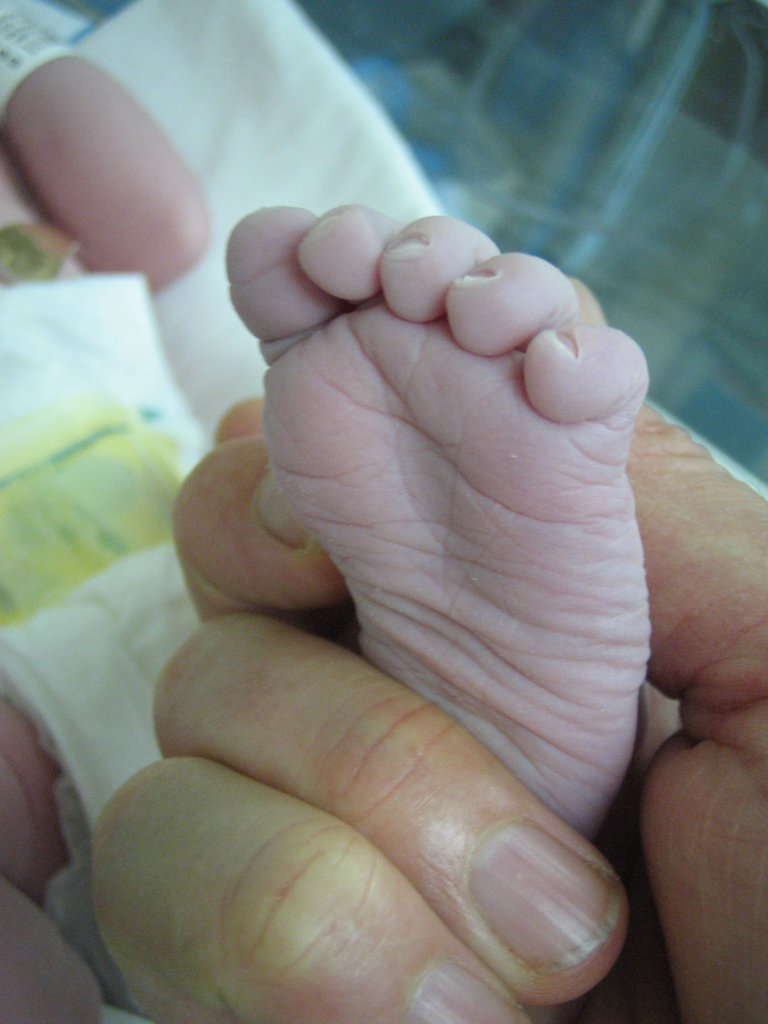Person: (0, 0, 653, 1024), (89, 281, 768, 1024)
